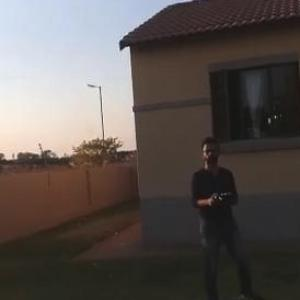follow: (187, 129, 273, 299)
